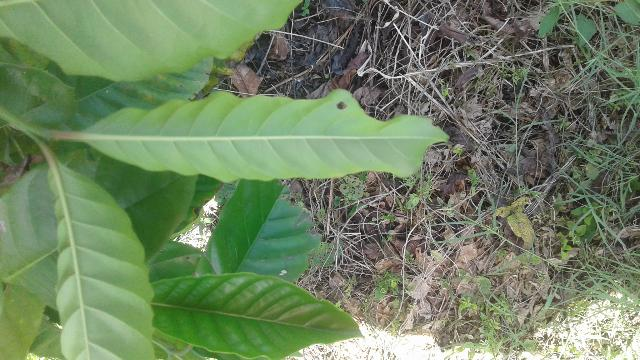healthy: (82, 88, 447, 182)
